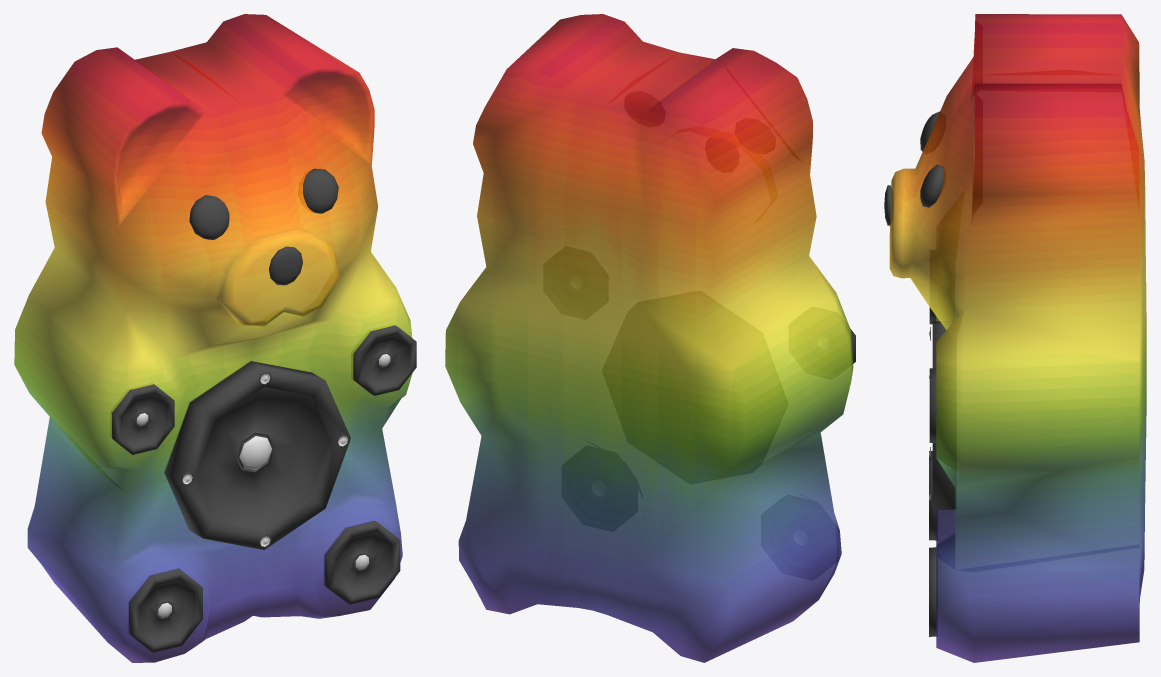
File: gummy-bear-speaker.glb
3 renders of one model, left to right at view 1: azimuth 30°, elevation 25°; view 2: azimuth 150°, elevation 25°; view 3: azimuth 270°, elevation 25°, orthographic. The views are drawn at different scales.
Parts seen in each view (by area): view 1: gummy-bear-speaker; view 2: gummy-bear-speaker; view 3: gummy-bear-speaker.
Part boxes in pixels (x1,y1,x2,y2): gummy-bear-speaker: (14, 14, 416, 662); gummy-bear-speaker: (445, 14, 855, 662); gummy-bear-speaker: (884, 14, 1146, 662).
Size of what is drawn, in the model's own units: 3.29 by 5.32 by 2.29.
Materials: 3 (1 with a texture image).
